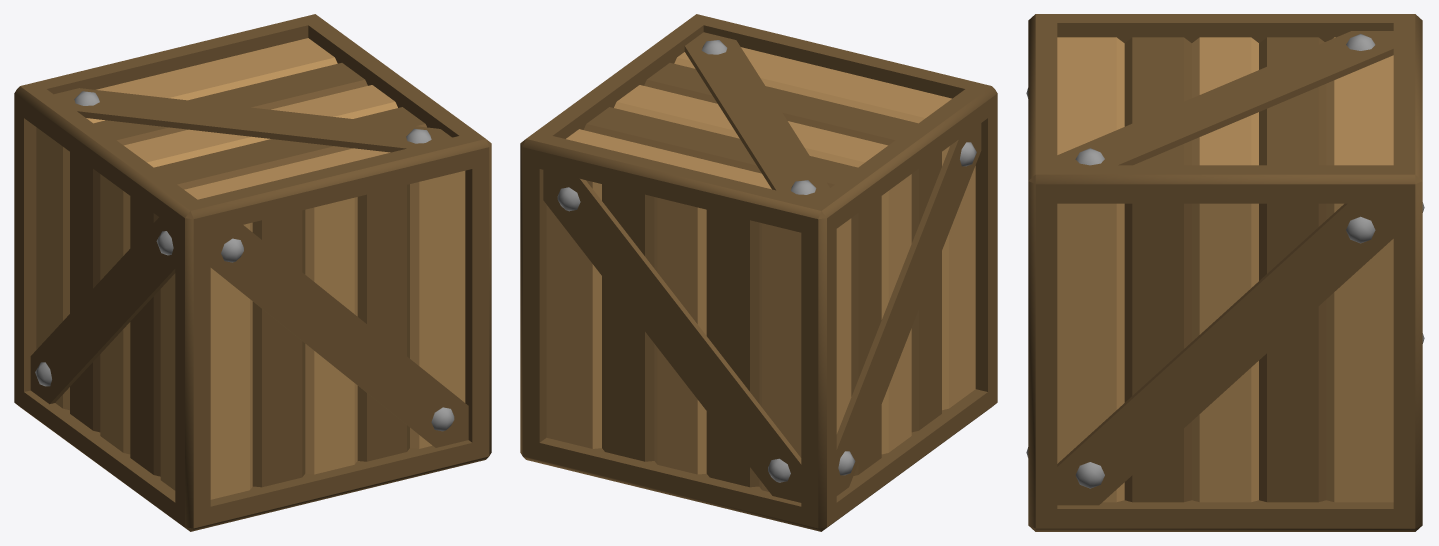
File: Crate.FBX
The picture shows the model from 3 angles, left to right: view 1: azimuth 30°, elevation 25°; view 2: azimuth 150°, elevation 25°; view 3: azimuth 270°, elevation 25°; orthographic projection. The views are drawn at different scales.
Visible parts, largest first — view 1: Crate; view 2: Crate; view 3: Crate.
Part boxes in pixels (box(x1,y1,x2,y2)): Crate: box(14, 14, 491, 531); Crate: box(520, 14, 997, 531); Crate: box(1026, 14, 1424, 531).
Bounding box in the file's own units: 101 × 101 × 101.
